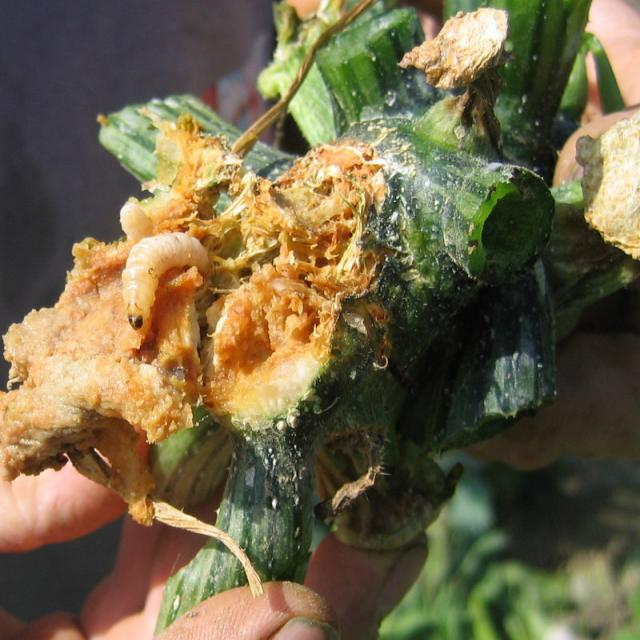cornborer-Larva-: (114, 217, 241, 346)
